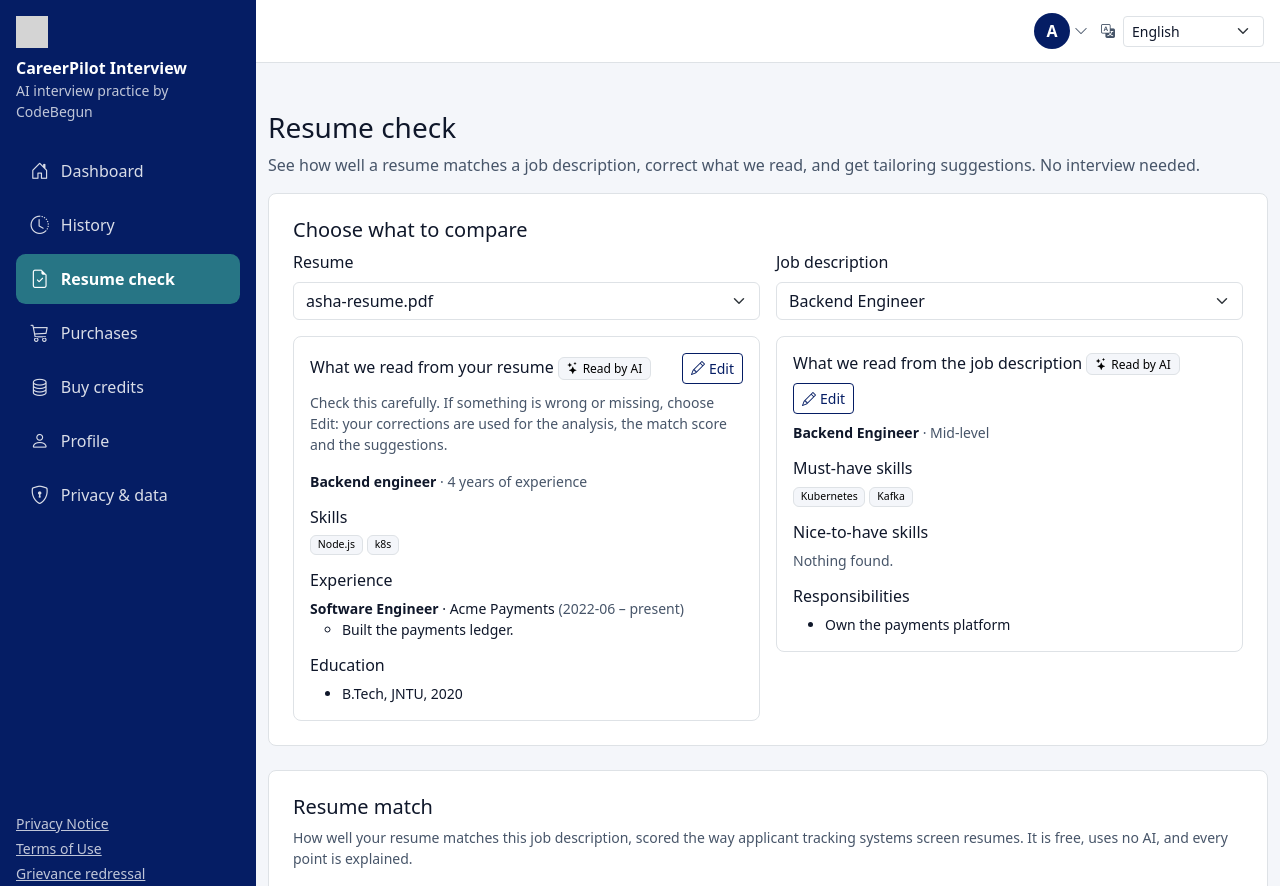
Test: resume check page › shows the explained match score, lets me correct the resume and get honest suggestions
Expected: the heading "Resume check" is shown, [268, 108, 456, 146]
// Correct the parsed resume: add a skill chip and save it as my revision.
Click the button "Edit" in the row of "What we read from your resume" at (712, 368), box [682, 353, 743, 384]
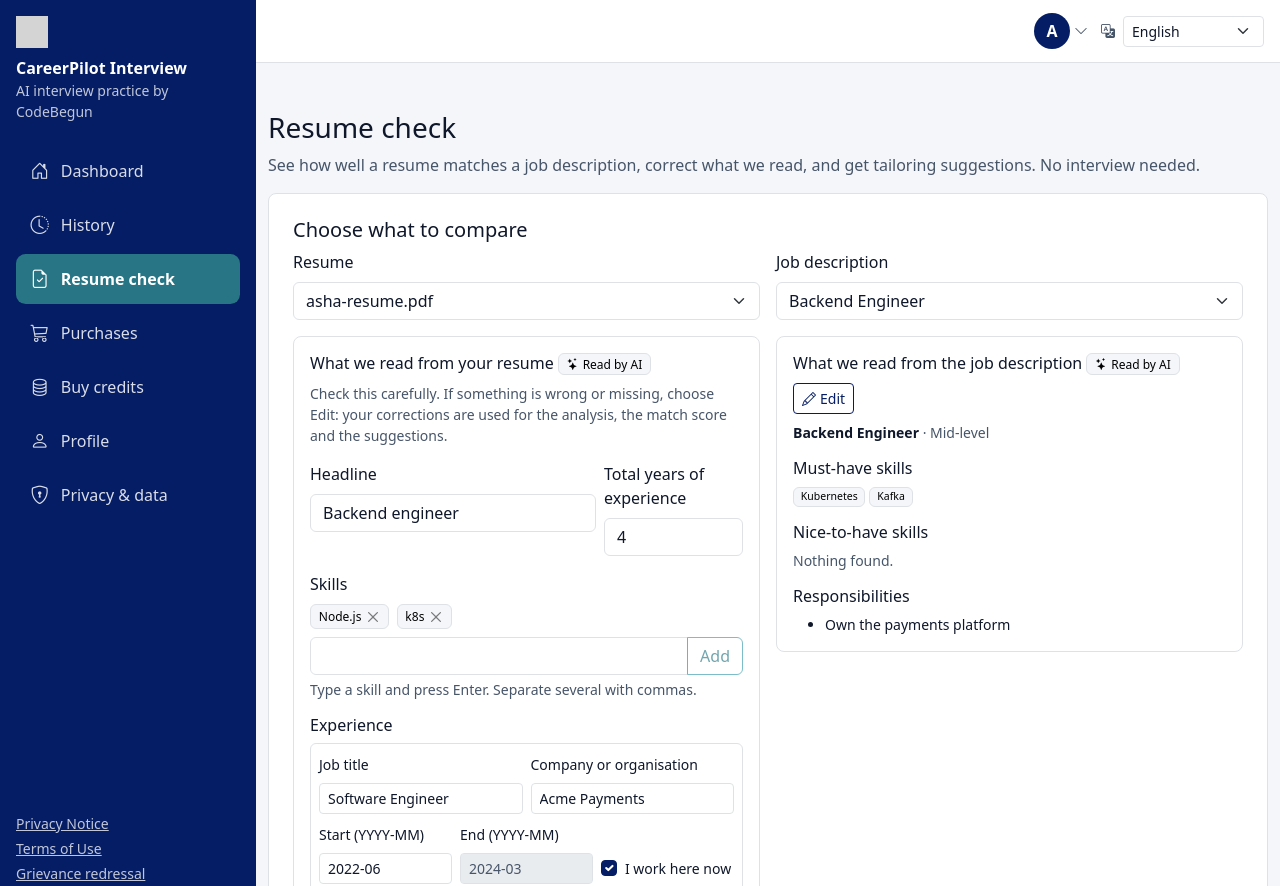
Type "Kafka" into the field labelled "Skills" at (499, 656), box [310, 637, 688, 675]
Then press Enter
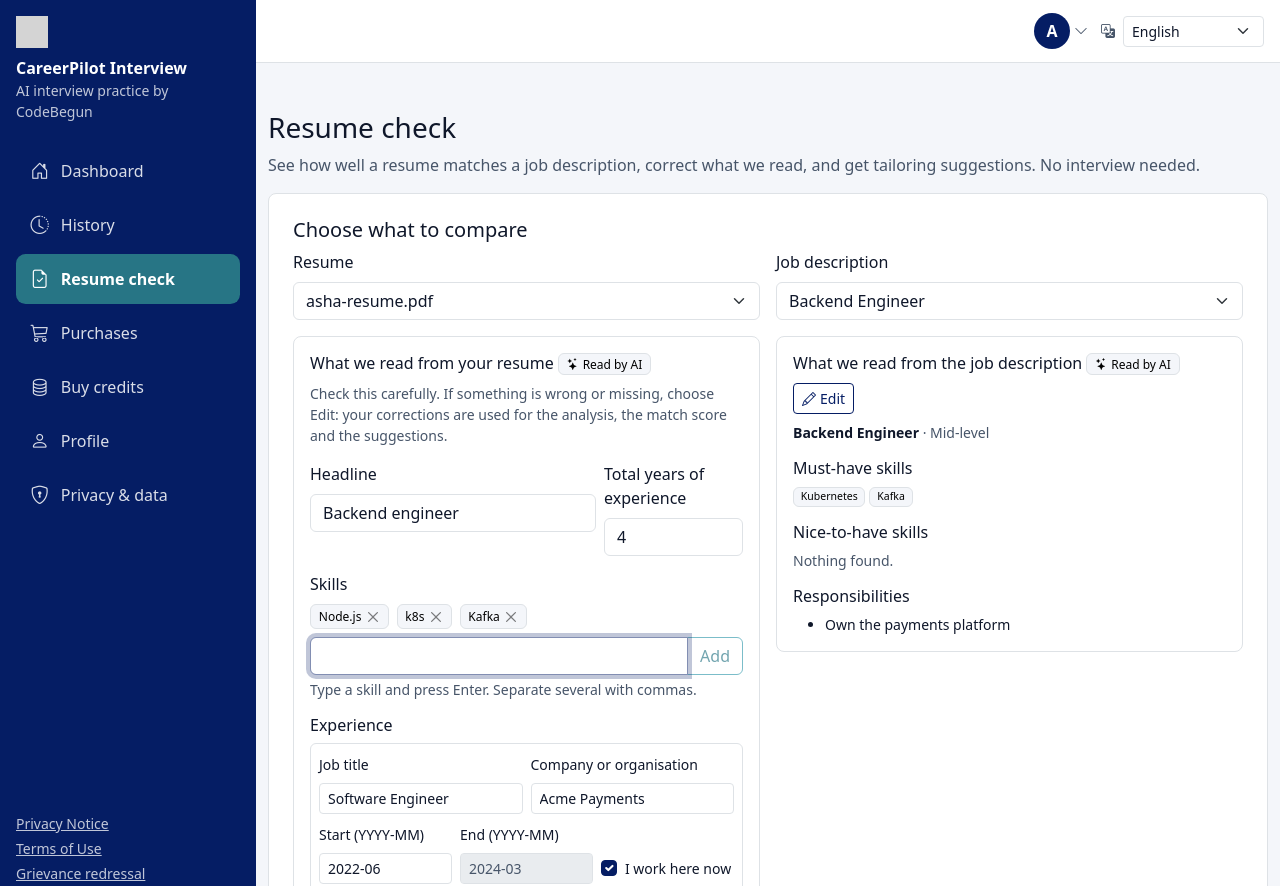
Click the button named "Remove k8s" at (436, 617), box [428, 610, 443, 624]
(page scrolled)
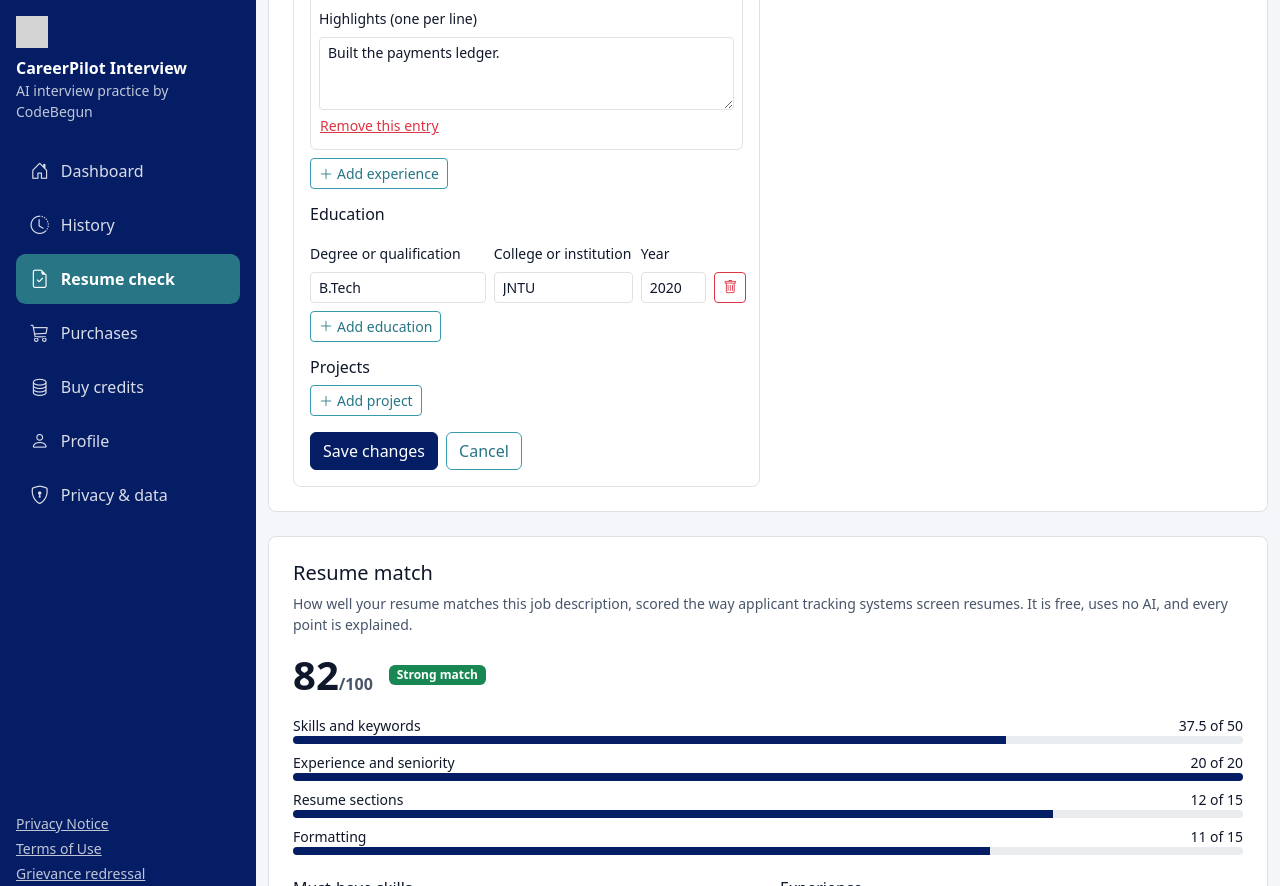
Click the button "Save changes" at (374, 451), box [310, 432, 438, 470]
(page scrolled)
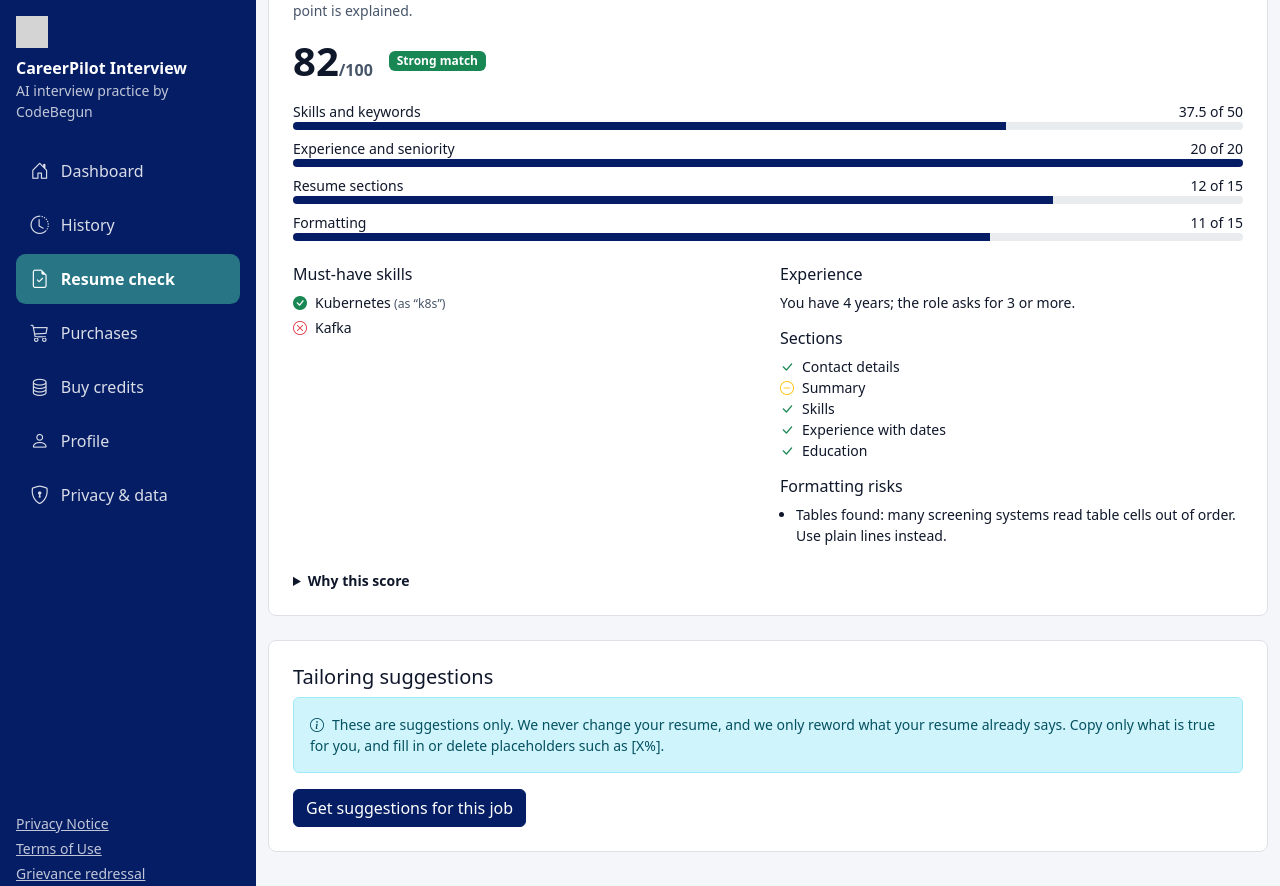
Expected: the text "We never change your resume" is shown, [310, 715, 1215, 755]
Click the button "Get suggestions for this job" at (410, 808), box [293, 789, 526, 827]
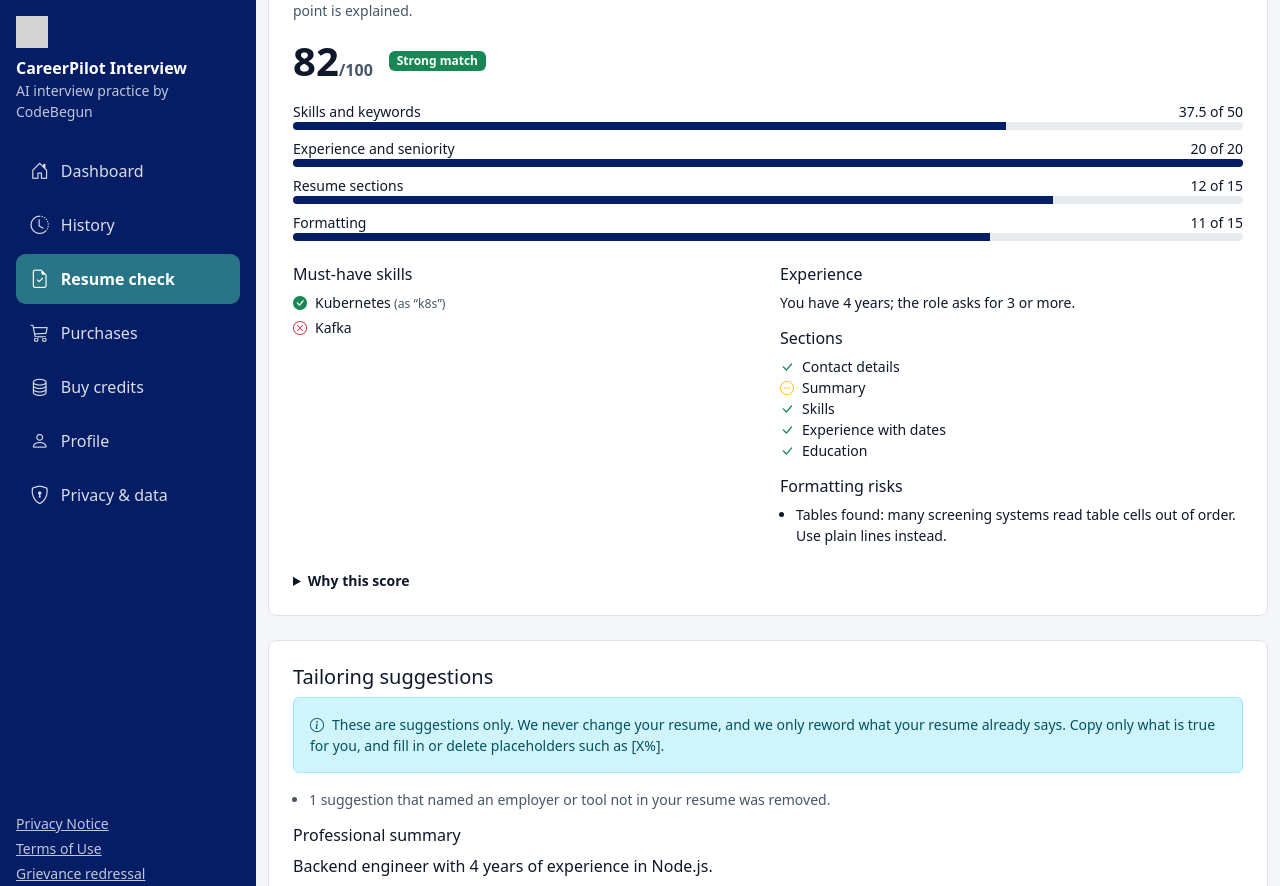
Now the list item "1 suggestion that named an employer or tool not in your resume" is shown, box [309, 790, 830, 809]
